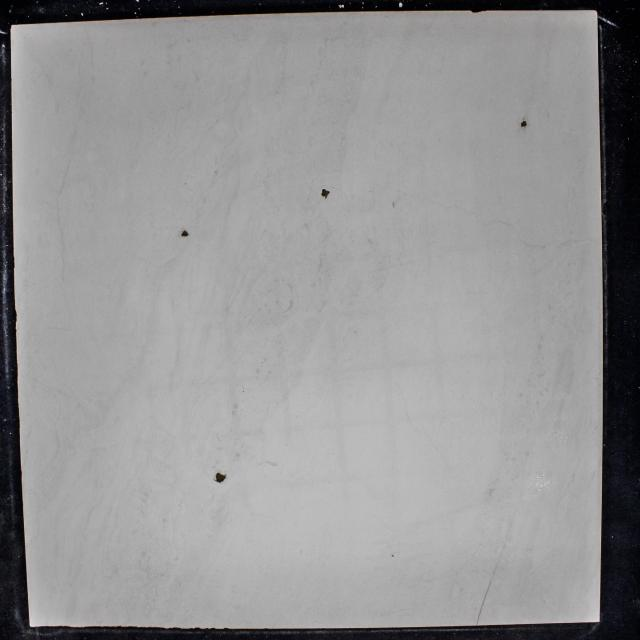edge-chipping: (470, 10, 483, 14)
hole: (214, 471, 227, 484), (320, 189, 330, 199), (180, 229, 190, 237), (520, 120, 527, 128)
line: (475, 578, 492, 624)
